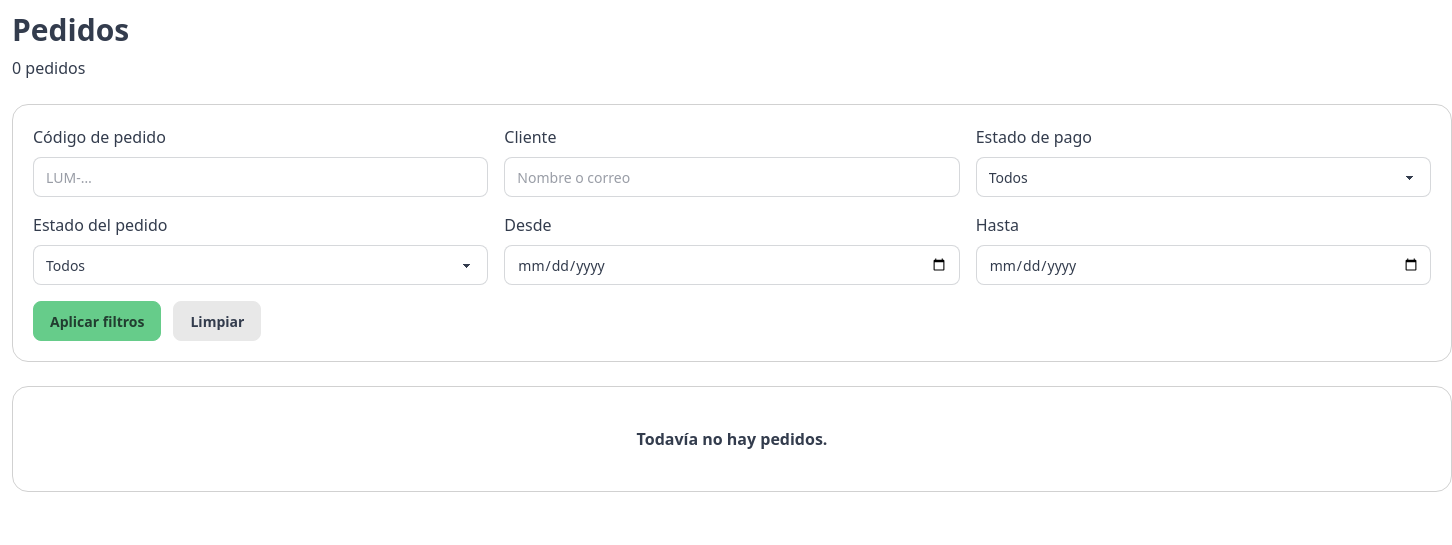
OrdersAdminPageComponent (lista de pedidos) › no deja aplicar un rango de fechas invertido
Step 1. Type "2026-10-31" into the date field labelled "Desde" → (732, 265), box 504,245 -> 960,285
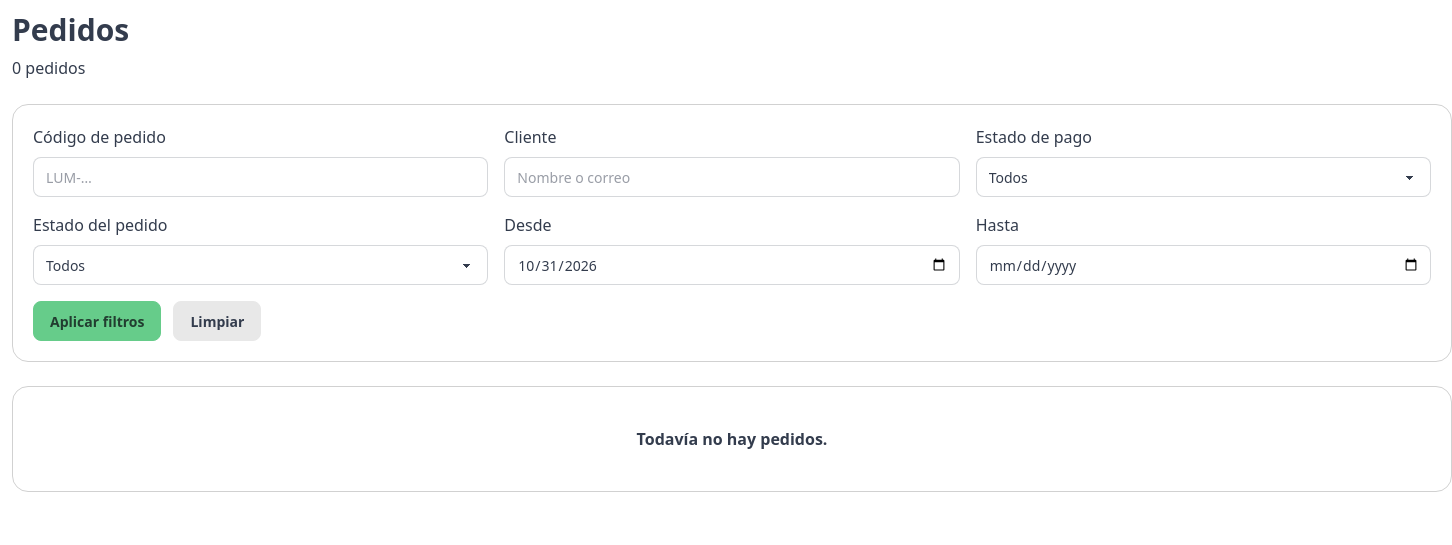
Step 2. Type "2026-10-01" into the date field labelled "Hasta" → (1203, 265), box 976,245 -> 1431,285
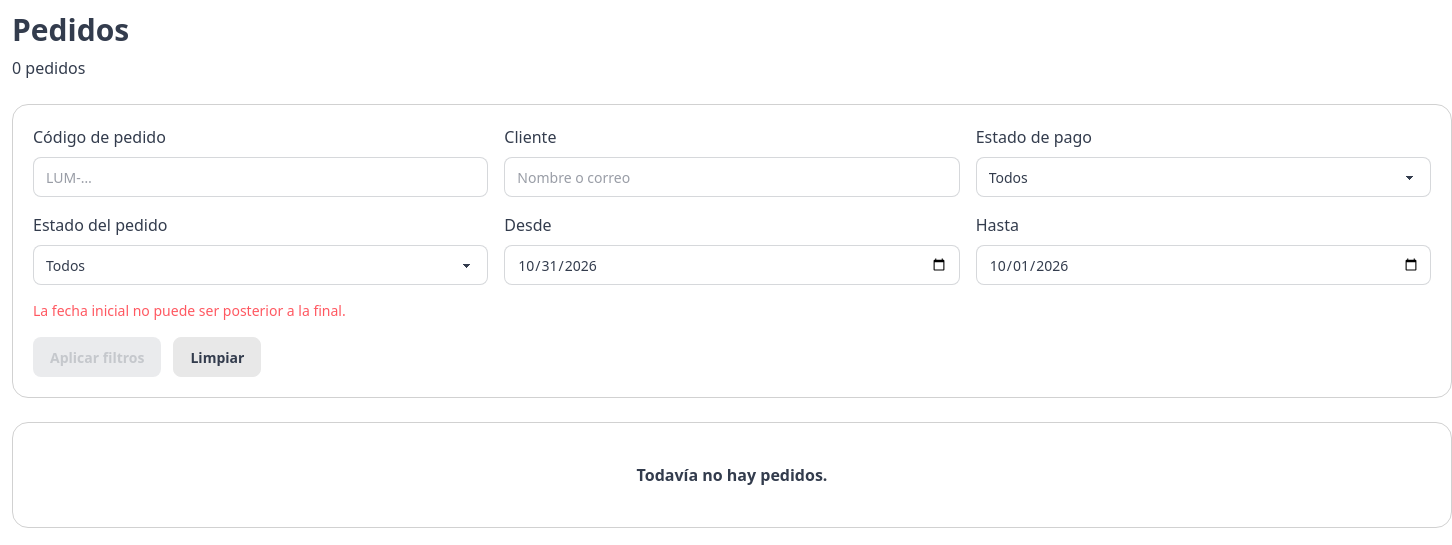
Result: the text "La fecha inicial no puede ser posterior a la final." is shown at 33,301 -> 346,320
Result: the button "Aplicar filtros" is disabled at 33,337 -> 162,377
